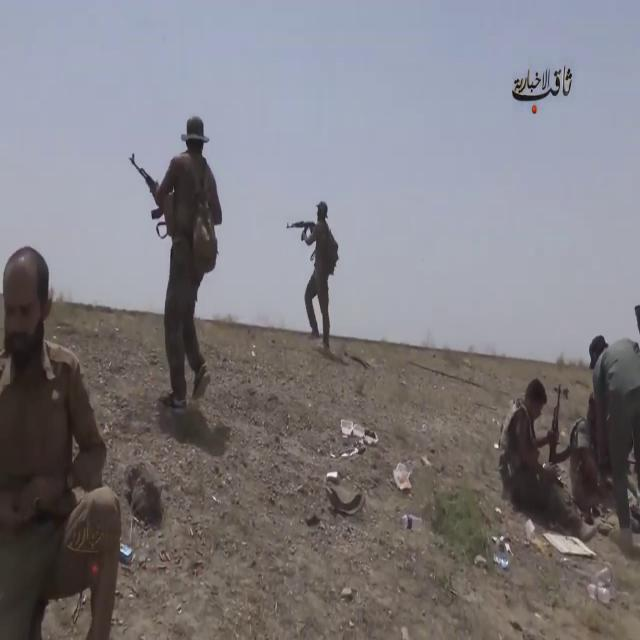long weapon: (128, 138, 178, 235), (544, 374, 572, 499), (278, 210, 318, 250)
